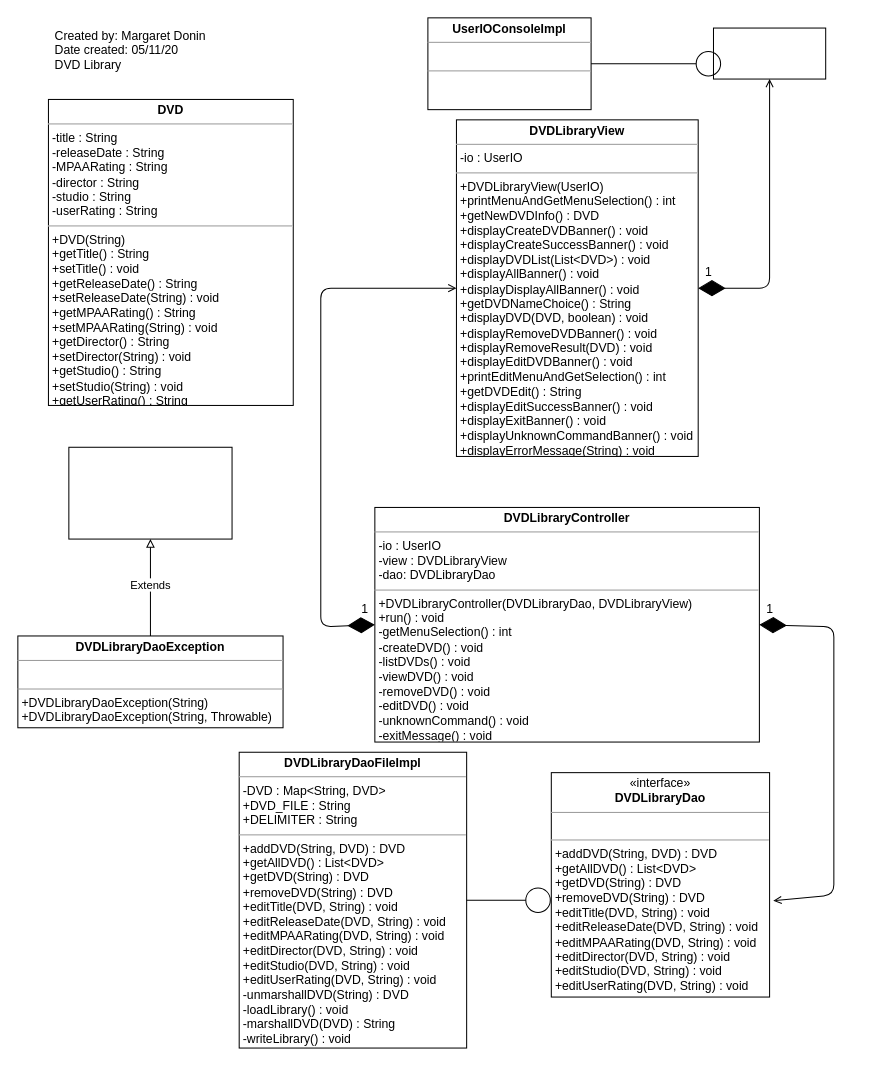
Image size: 878x1066. Some labels were removed from this diagram. Here are the shapes that lost their labels. From the top down, the centre of each, then its label:
the point at 769,53: «interface» UserIO
the point at 150,492: Exception
